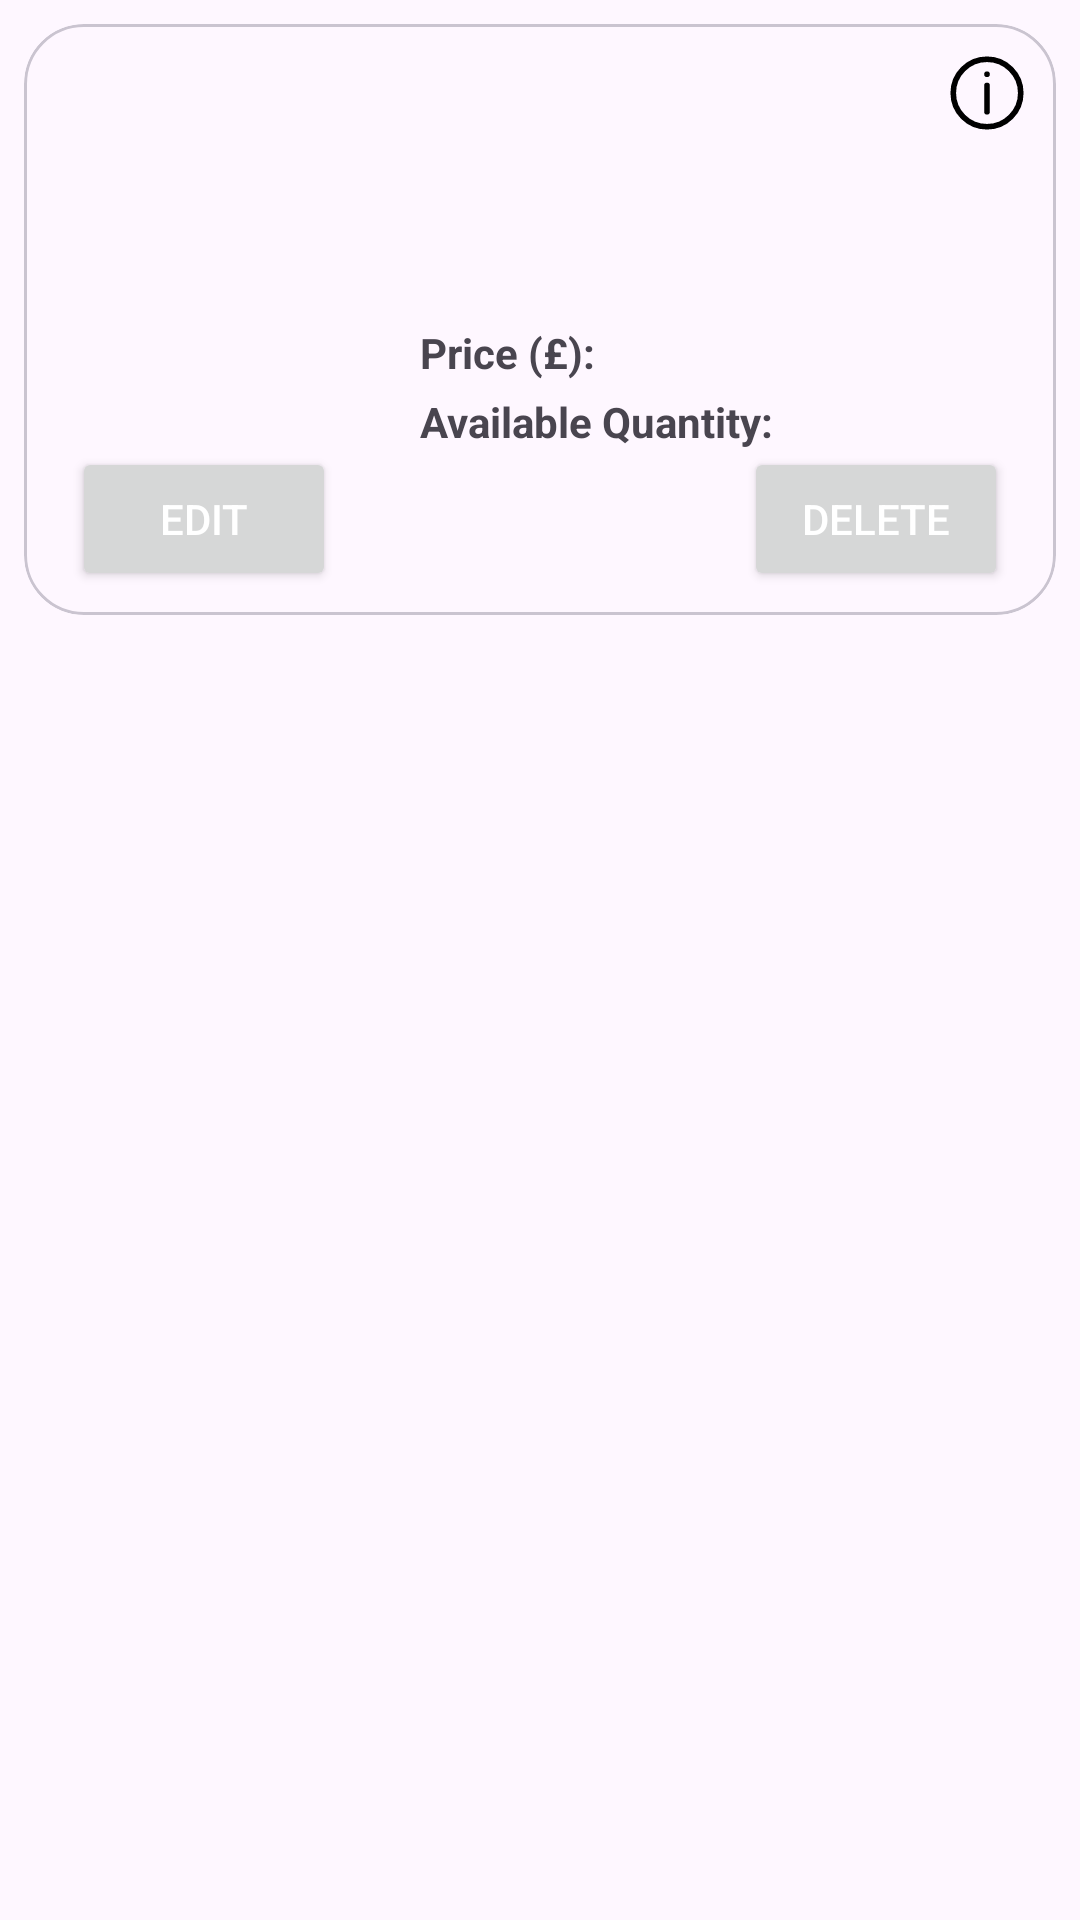

Locate icon controls on the screen. Image size 1080x1920, boxes as BBox(x1, y1, x2, y2).
info: BBox(950, 56, 1024, 130)
